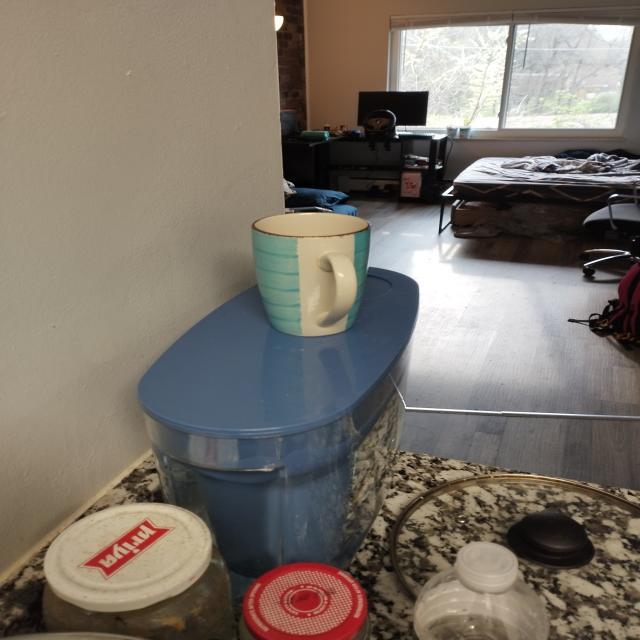Cup: (211, 189, 400, 344)
